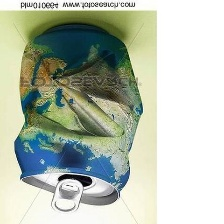can: (11, 20, 144, 216)
